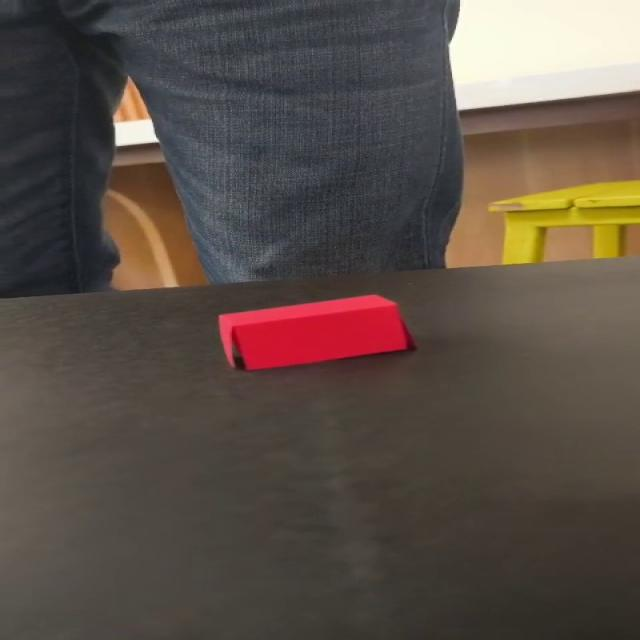red block: (216, 293, 413, 371)
